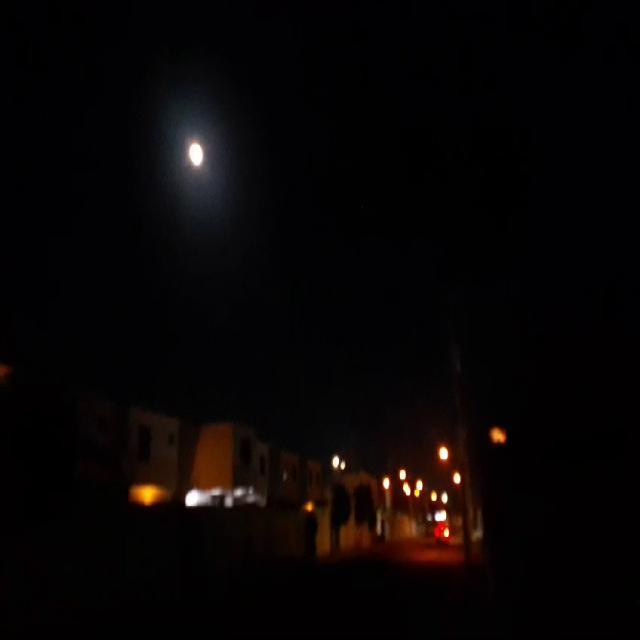moon: (186, 143, 206, 177)
